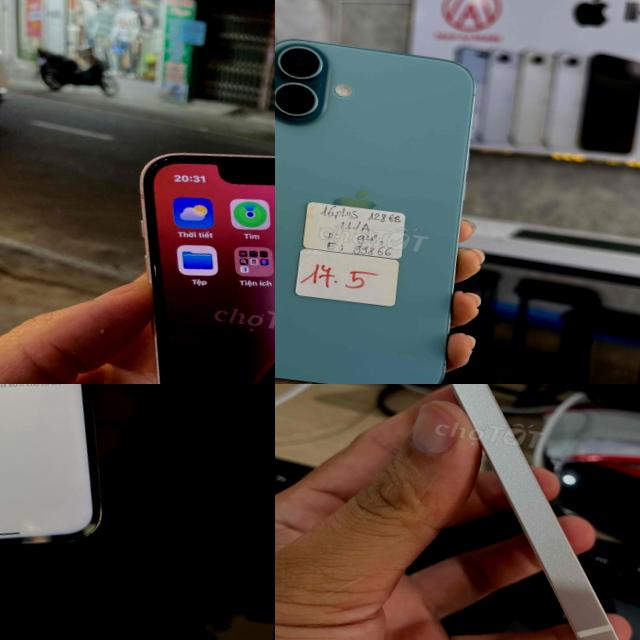gen_12_13: (81, 128, 275, 384), (0, 384, 156, 587)
gen_14: (275, 384, 640, 640)
gen_16: (275, 40, 475, 384)
